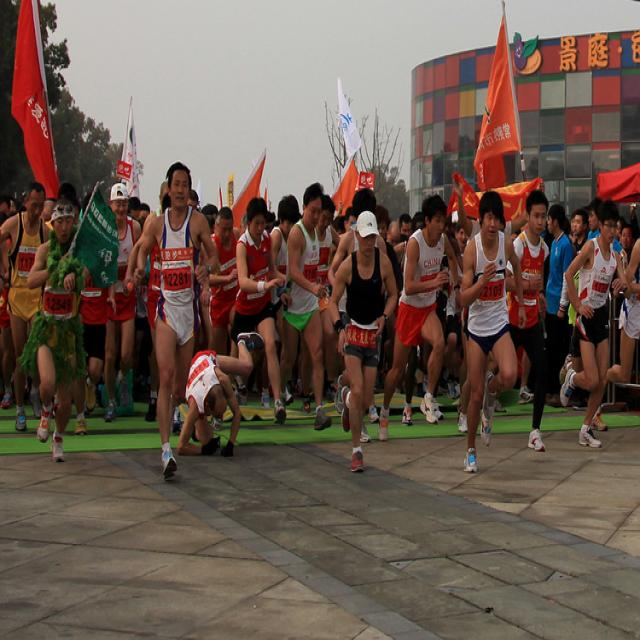10-: (9, 151, 638, 444)
down: (169, 317, 282, 452)
